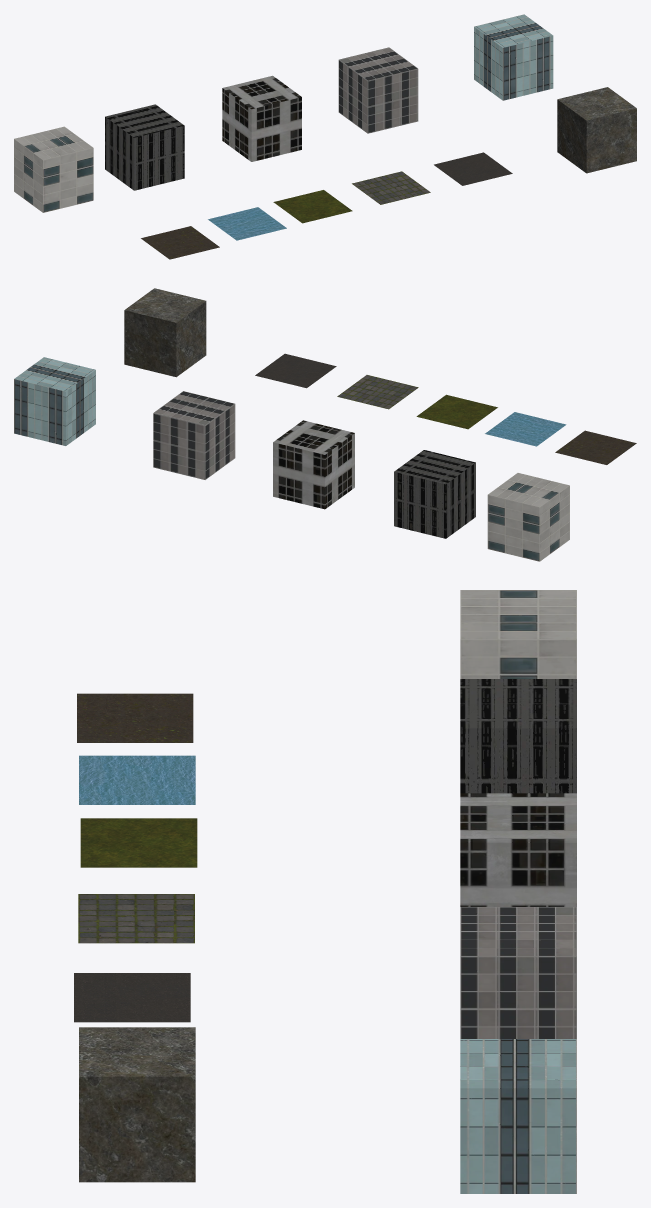
File: mats-transformed.glb
3 views of the same model, one above another, from view 1: azimuth 30°, elevation 25°; view 2: azimuth 150°, elevation 25°; view 3: azimuth 270°, elevation 25° (orthographic). The views are drawn at different scales.
Parts seen in each view (by area): view 1: mat4, mat, mat5, mat1, mat3, wall, grass, ground, water, pavement, asphalt; view 2: mat4, wall, mat1, mat, mat3, mat5, grass, asphalt, ground, water, pavement; view 3: wall, mat5, mat4, mat, mat3, mat1, grass, water, pavement, asphalt, ground.
Part boxes in pixels (x1,y1,x2,y2): mat4: (338,47,418,133); mat: (105,104,184,190); mat5: (474,14,553,100); mat1: (14,126,93,212); mat3: (222,75,301,161); wall: (557,87,636,173); grass: (273,190,352,223); ground: (141,226,219,259); water: (208,207,286,240); pavement: (352,171,430,204); asphalt: (434,152,512,185); mat4: (153,391,235,479); wall: (124,288,206,377); mat1: (487,473,569,561); mat: (394,450,475,538); mat3: (273,420,354,509); mat5: (14,357,95,445); grass: (416,394,497,429); asphalt: (255,353,336,388); ground: (555,430,636,464); water: (485,412,566,446); pavement: (337,375,418,409); wall: (79,1027,195,1182); mat5: (460,1039,576,1193); mat4: (460,907,576,1038); mat: (460,679,576,793); mat3: (460,793,576,906); mat1: (460,590,576,678); grass: (80,818,197,867); water: (79,755,195,804); pavement: (78,894,194,943); asphalt: (74,973,190,1022); ground: (77,693,193,742).
Size of the model in its own units: 20.21 by 2 by 8.63.
11 materials, 11 textured.
